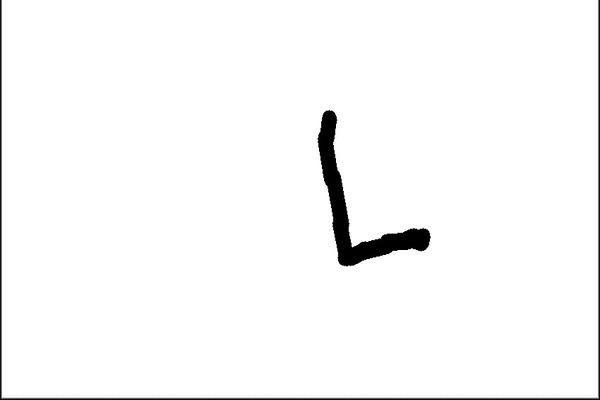L: (310, 104, 439, 278)
